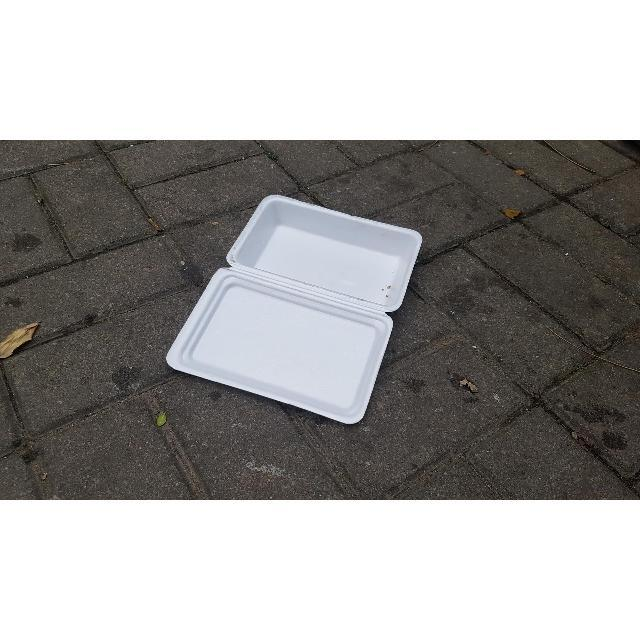Recipiente plastico: (166, 196, 421, 424)
